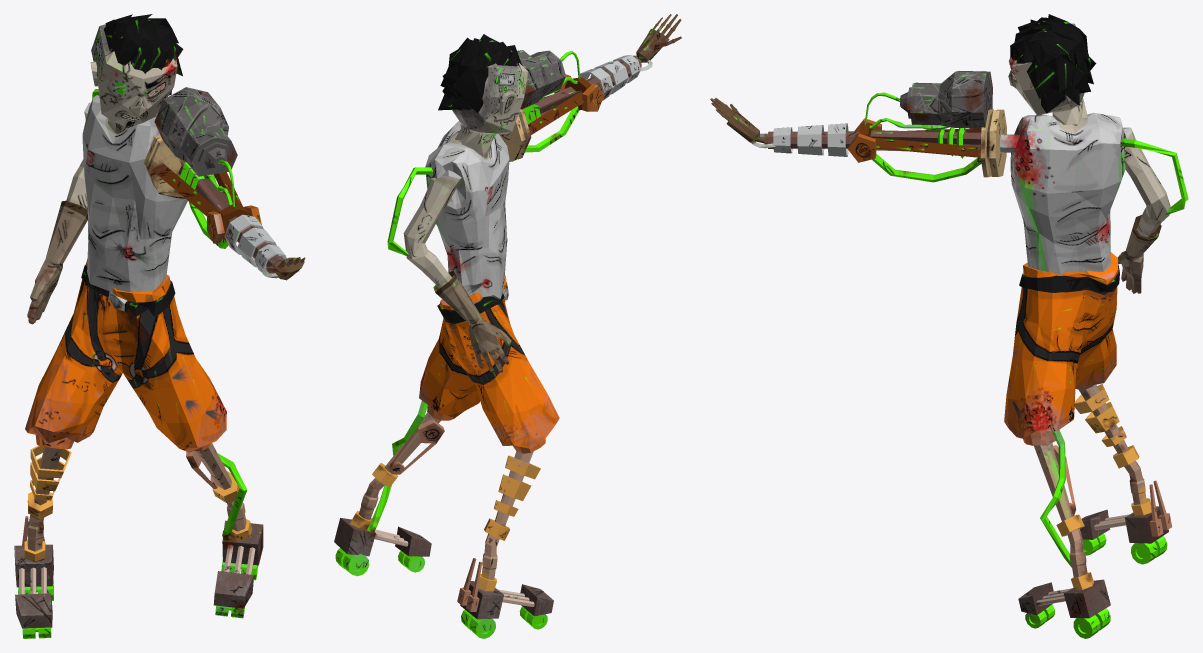
File: CyborgFINALAnimation_000025.obj
3 renders of one model, left to right at view 1: azimuth 30°, elevation 25°; view 2: azimuth 150°, elevation 25°; view 3: azimuth 270°, elevation 25°, orthographic. The views are drawn at different scales.
Parts seen in each view (by area): view 1: CyborgMesh_Cube.002; view 2: CyborgMesh_Cube.002; view 3: CyborgMesh_Cube.002.
Part boxes in pixels (left/top/right/bottom): CyborgMesh_Cube.002: left=14, top=14, right=305, bottom=638; CyborgMesh_Cube.002: left=334, top=14, right=681, bottom=638; CyborgMesh_Cube.002: left=710, top=14, right=1188, bottom=638.
Bounding box in the file's own units: 3.88 × 9.42 × 7.22.
